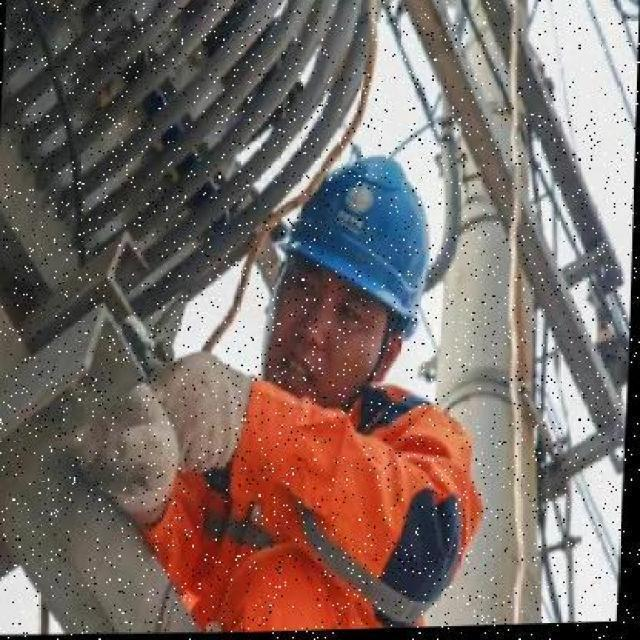helmet: (280, 155, 428, 322)
vest: (240, 365, 465, 633)
